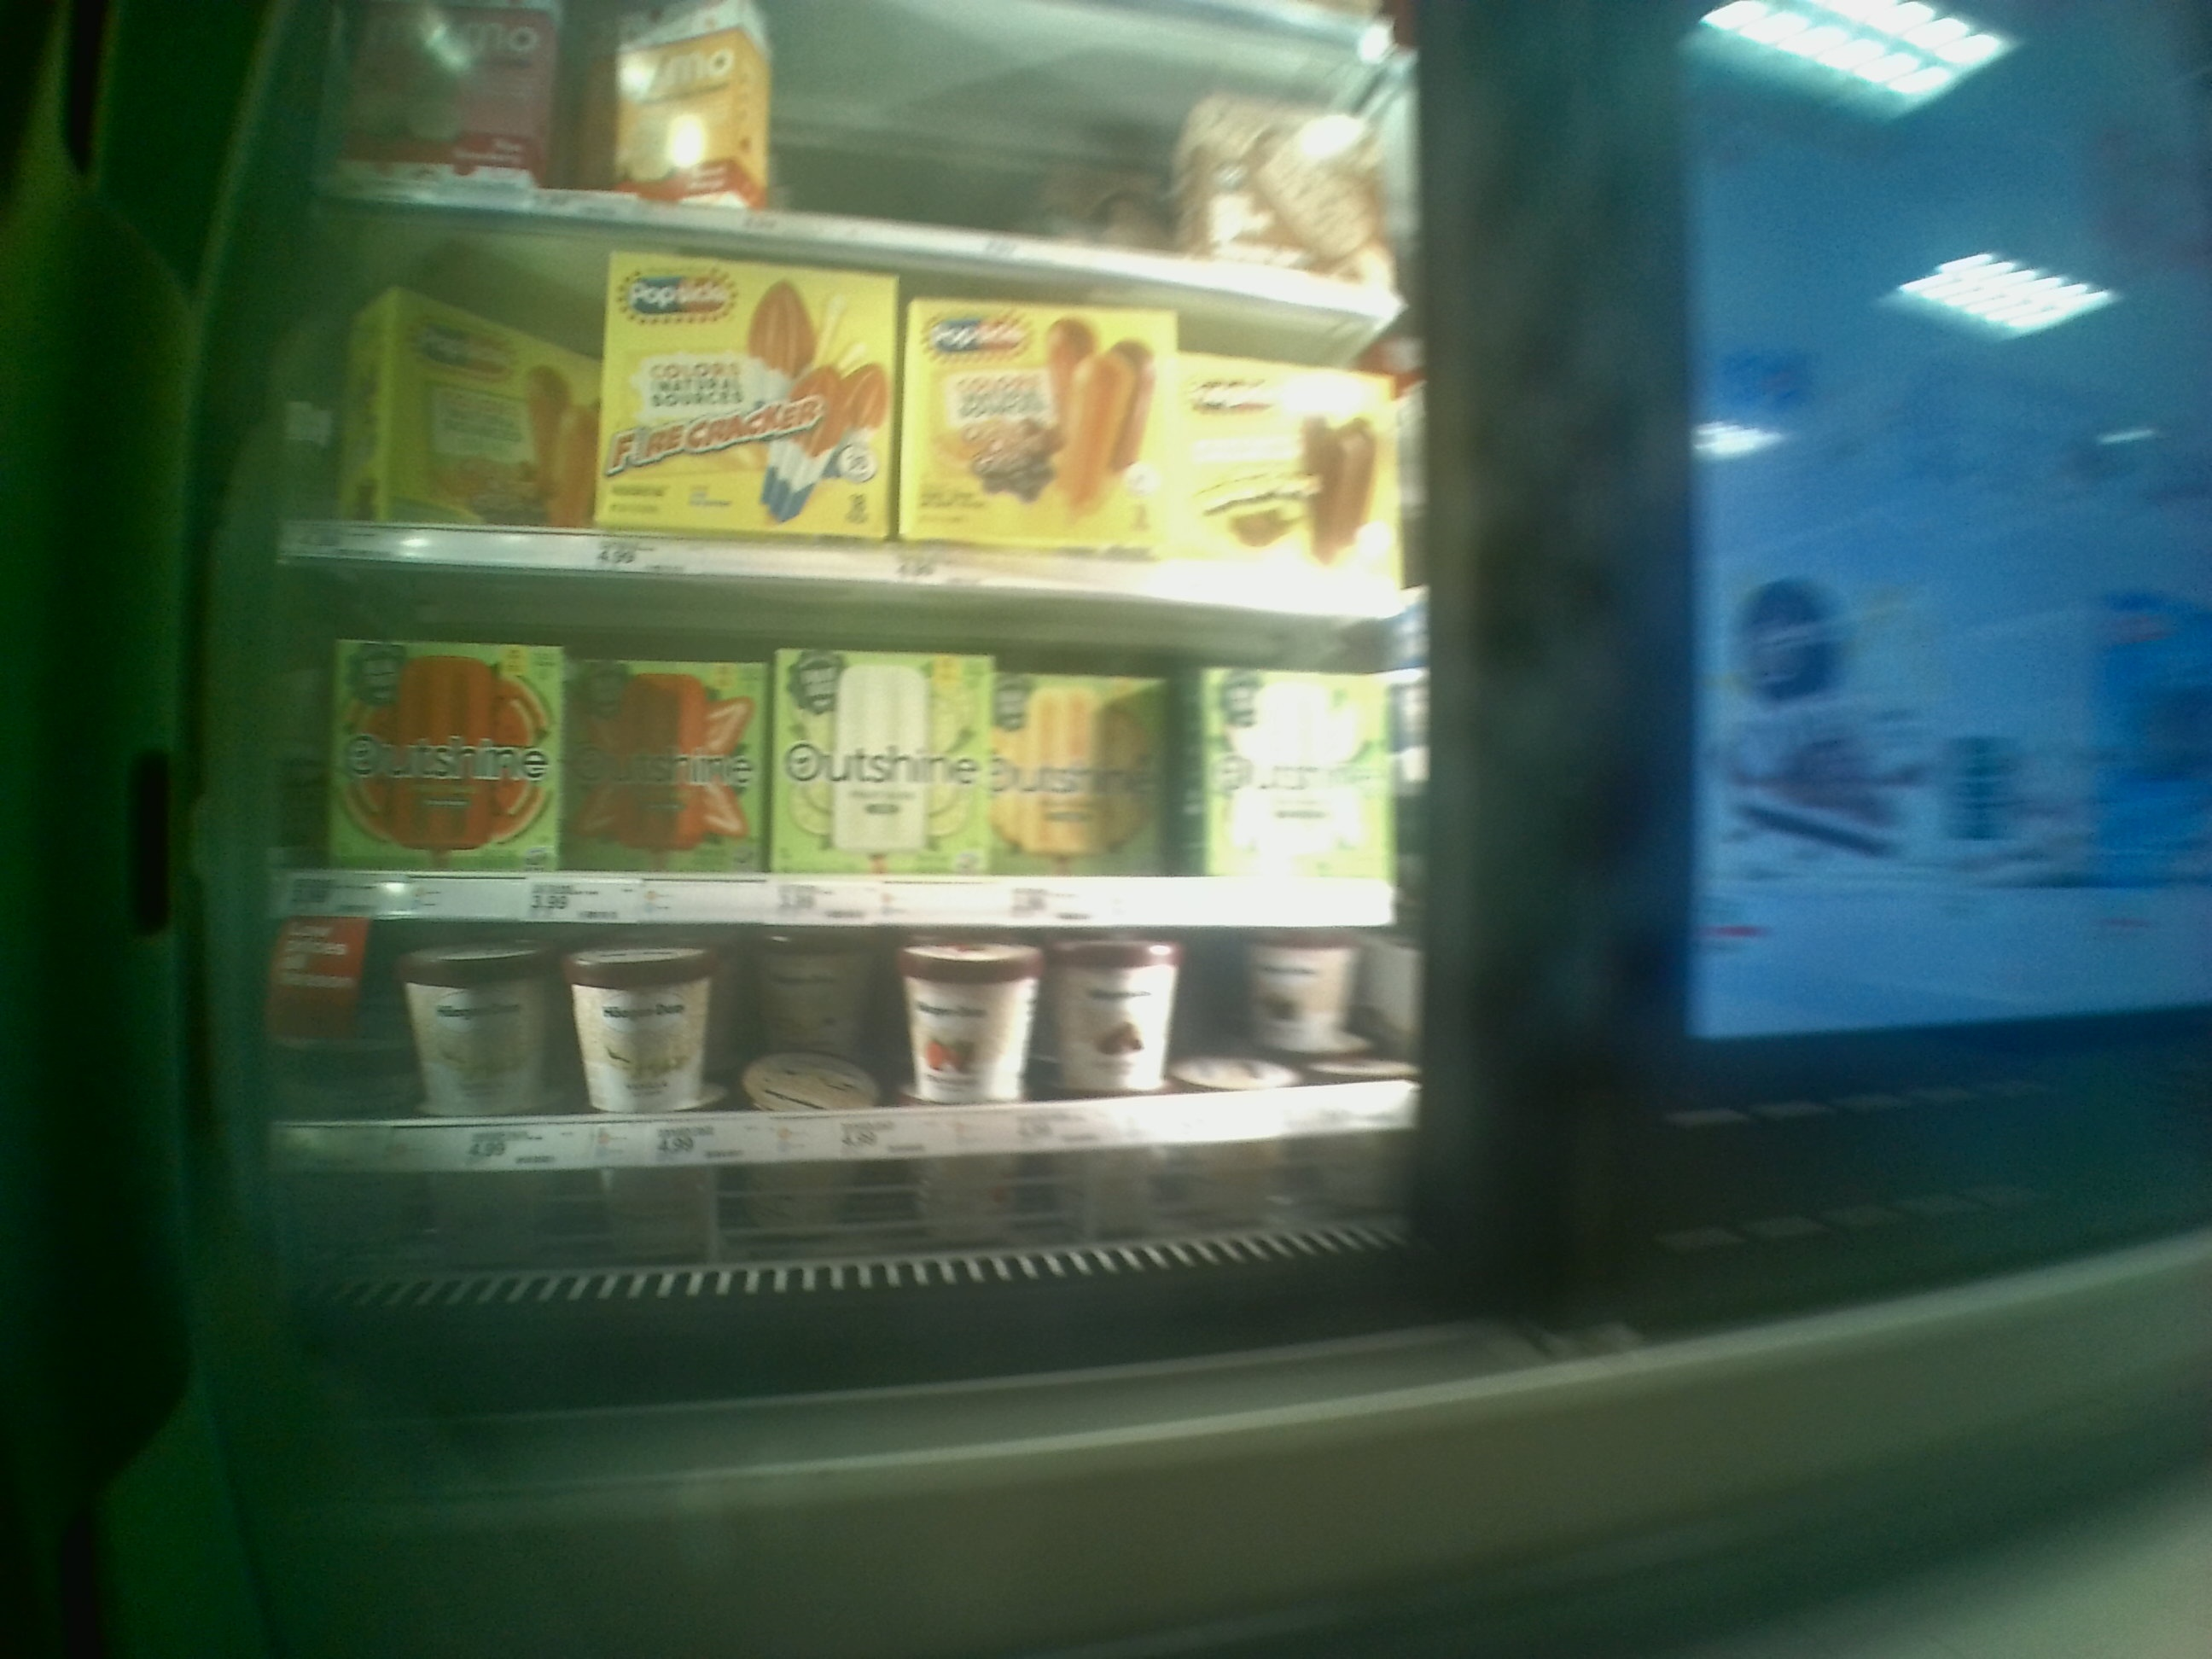ice-cream-shelf: (279, 563, 1407, 922), (280, 917, 1420, 1168)
